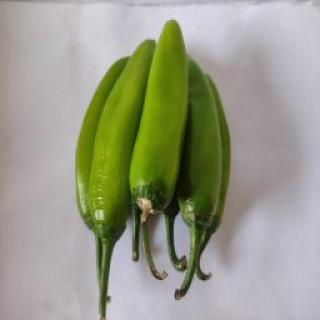Cabai Hijau: (128, 17, 192, 279)
